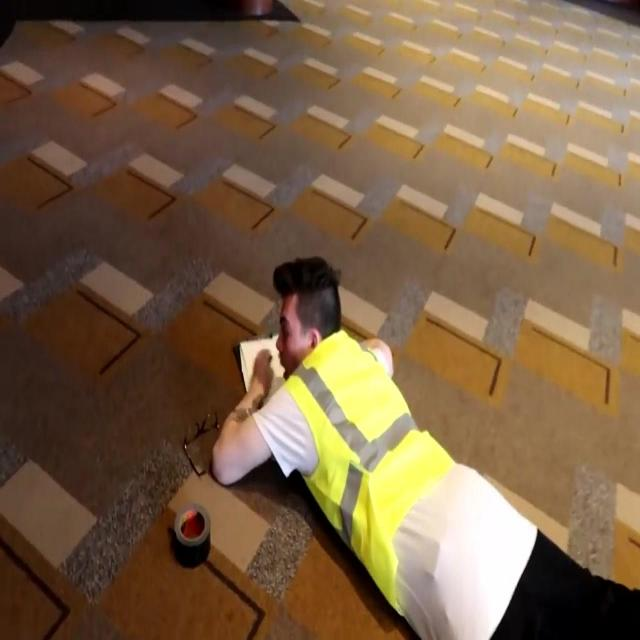Reflective-Jacket: (275, 329, 463, 630)
